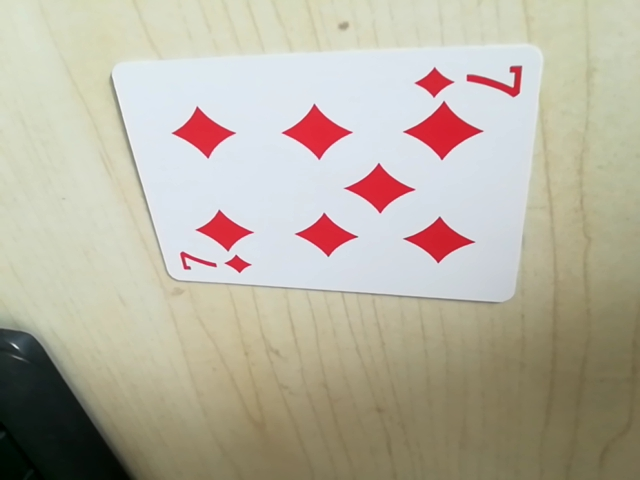fk 7: (412, 54, 526, 102), (169, 248, 255, 282)
